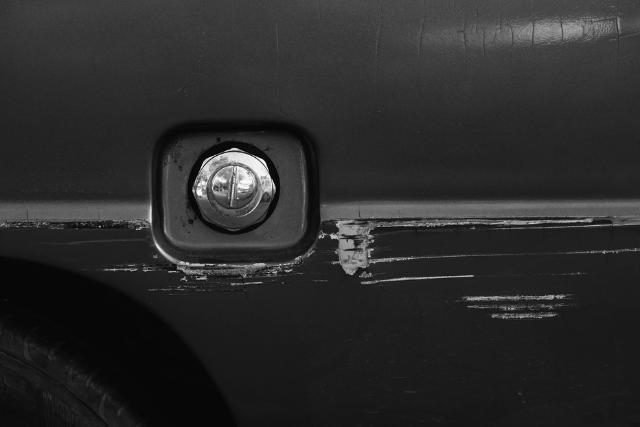Fender: (5, 173, 640, 358)
